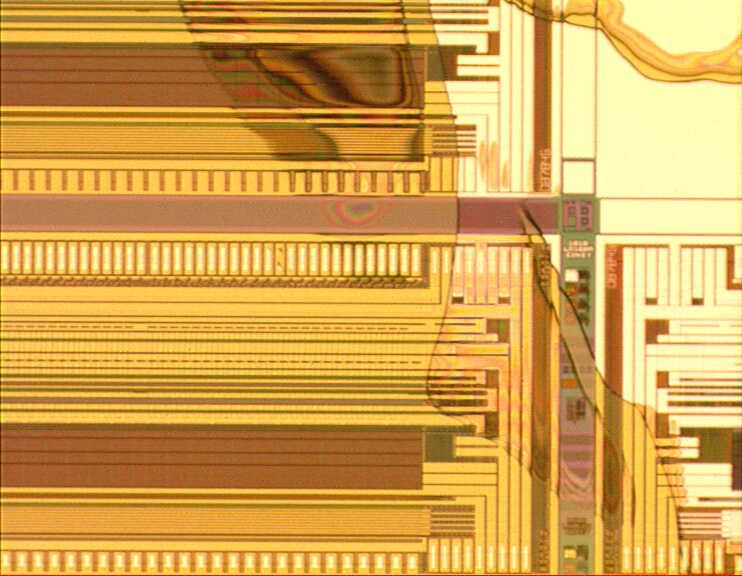COATING BAD: (175, 1, 742, 561)
